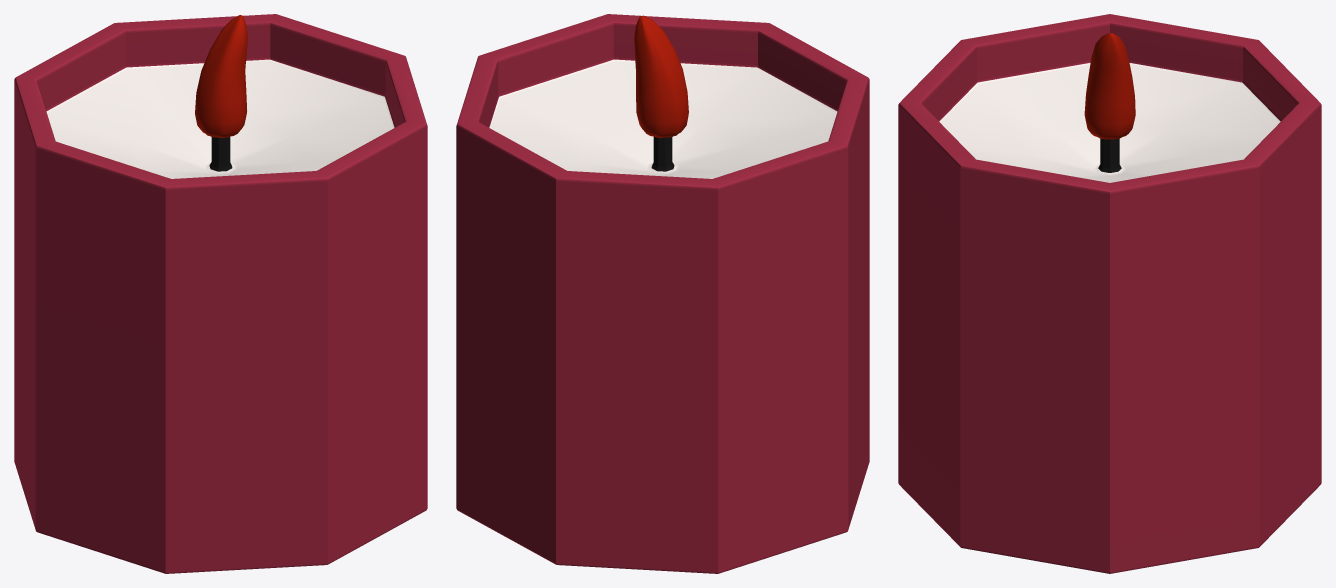
Rendered from Candle.fbx.
3 renders of one model, left to right at view 1: azimuth 30°, elevation 25°; view 2: azimuth 150°, elevation 25°; view 3: azimuth 270°, elevation 25°, orthographic.
Parts seen in each view (by area): view 1: Candle1, Fire1; view 2: Candle1, Fire1; view 3: Candle1, Fire1.
Part boxes in pixels (box(x1,y1,x2,y2)): Candle1: box(14, 14, 427, 573); Fire1: box(195, 15, 247, 137); Candle1: box(456, 14, 869, 573); Fire1: box(634, 15, 688, 137); Candle1: box(898, 14, 1321, 573); Fire1: box(1084, 33, 1135, 139).
Size of the model in its own units: 9.75 by 11.74 by 9.75.
